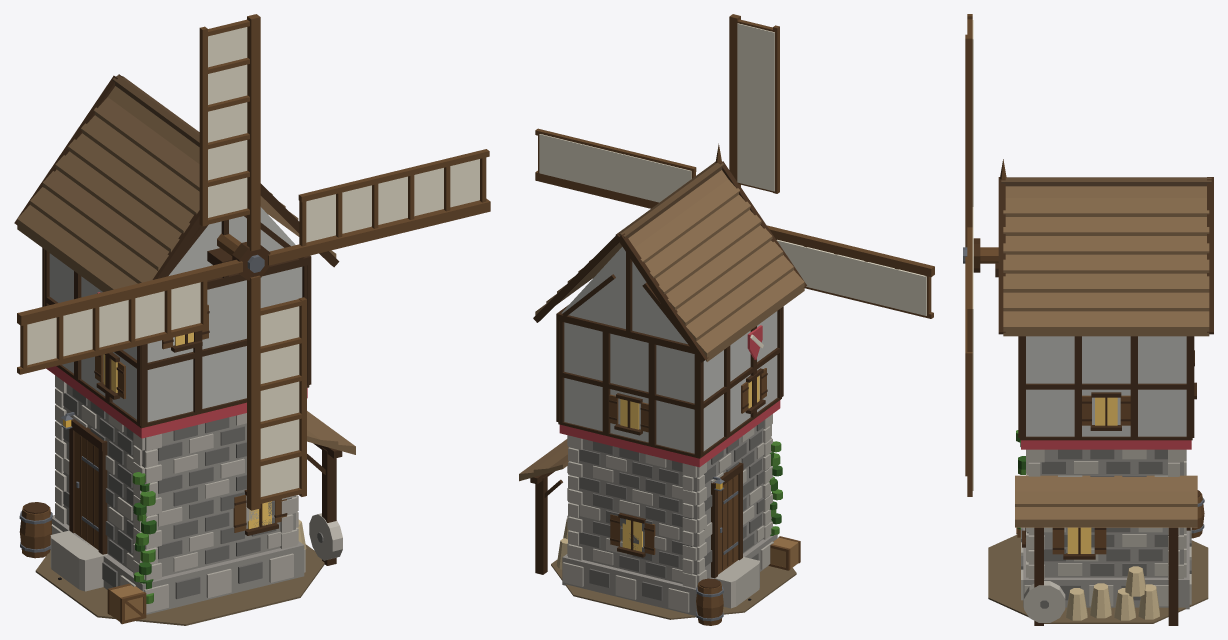
Rendered from mill_2.obj.
The picture shows the model from 3 angles, left to right: view 1: azimuth 30°, elevation 25°; view 2: azimuth 150°, elevation 25°; view 3: azimuth 270°, elevation 25°; orthographic projection. The views are drawn at different scales.
Visible parts, largest first — view 1: Sails.Canvas, Roof, Wall.Stone, Sails.Spar, Upper, Sails.Bar, Walls, Sails.Rail, Ground, Wall.Quoin, Base, Timber.Post (+20 smaller); view 2: Roof, Sails.Canvas, Upper, Wall.Stone, Walls, Wall.Quoin, Timber.Post, Sails.Spar, Gable, Gable.Barge, Base, Ground (+19 smaller); view 3: Roof, Upper, Shed.Roof, Wall.Stone, Ground, Walls, Timber.Post, Sack, Sails.Spar, Roof.Ridge, Gable.Barge, Base (+13 smaller).
Boxes of the visible parts, bbox=[...] form: Sails.Canvas: bbox=[27, 27, 479, 496]; Roof: bbox=[17, 86, 336, 291]; Wall.Stone: bbox=[63, 388, 291, 571]; Sails.Spar: bbox=[17, 14, 490, 510]; Upper: bbox=[49, 253, 302, 422]; Sails.Bar: bbox=[20, 19, 486, 503]; Walls: bbox=[63, 384, 295, 576]; Sails.Rail: bbox=[17, 26, 489, 496]; Ground: bbox=[35, 544, 324, 625]; Wall.Quoin: bbox=[55, 375, 298, 580]; Base: bbox=[50, 515, 304, 614]; Timber.Post: bbox=[42, 248, 311, 425]; Roof: bbox=[535, 170, 804, 361]; Sails.Canvas: bbox=[539, 23, 926, 315]; Upper: bbox=[564, 311, 777, 453]; Wall.Stone: bbox=[579, 420, 769, 582]; Walls: bbox=[569, 425, 770, 583]; Wall.Quoin: bbox=[567, 414, 772, 588]; Timber.Post: bbox=[556, 306, 783, 456]; Sails.Spar: bbox=[535, 14, 934, 277]; Gable: bbox=[561, 247, 687, 344]; Gable.Barge: bbox=[533, 161, 806, 362]; Base: bbox=[562, 534, 777, 617]; Ground: bbox=[551, 559, 796, 619]; Roof: bbox=[1003, 186, 1209, 336]; Upper: bbox=[1026, 336, 1186, 436]; Shed.Roof: bbox=[1015, 475, 1197, 527]; Wall.Stone: bbox=[1027, 449, 1178, 575]; Ground: bbox=[988, 535, 1208, 623]; Walls: bbox=[1029, 449, 1183, 577]; Timber.Post: bbox=[1018, 336, 1194, 437]; Sack: bbox=[1066, 566, 1159, 620]; Sails.Spar: bbox=[965, 34, 972, 476]; Roof.Ridge: bbox=[1001, 177, 1211, 186]; Gable.Barge: bbox=[998, 177, 1213, 334]; Base: bbox=[1023, 527, 1189, 609].
Bounding box in the file's own units: 9 × 11.05 × 4.68.
